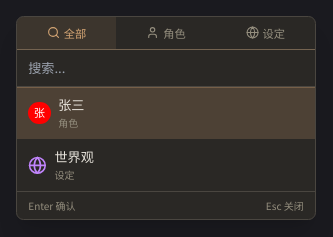
Scenario: MentionPanel › 点击"设定" tab 仅显示设定条目
Click the button "设定" at (265, 33), box [216, 17, 315, 49]
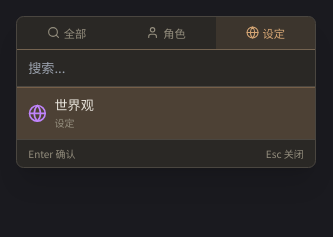
expect the text "世界观" is shown: met, box [54, 95, 94, 114]
expect the button "张三" is gone: met
